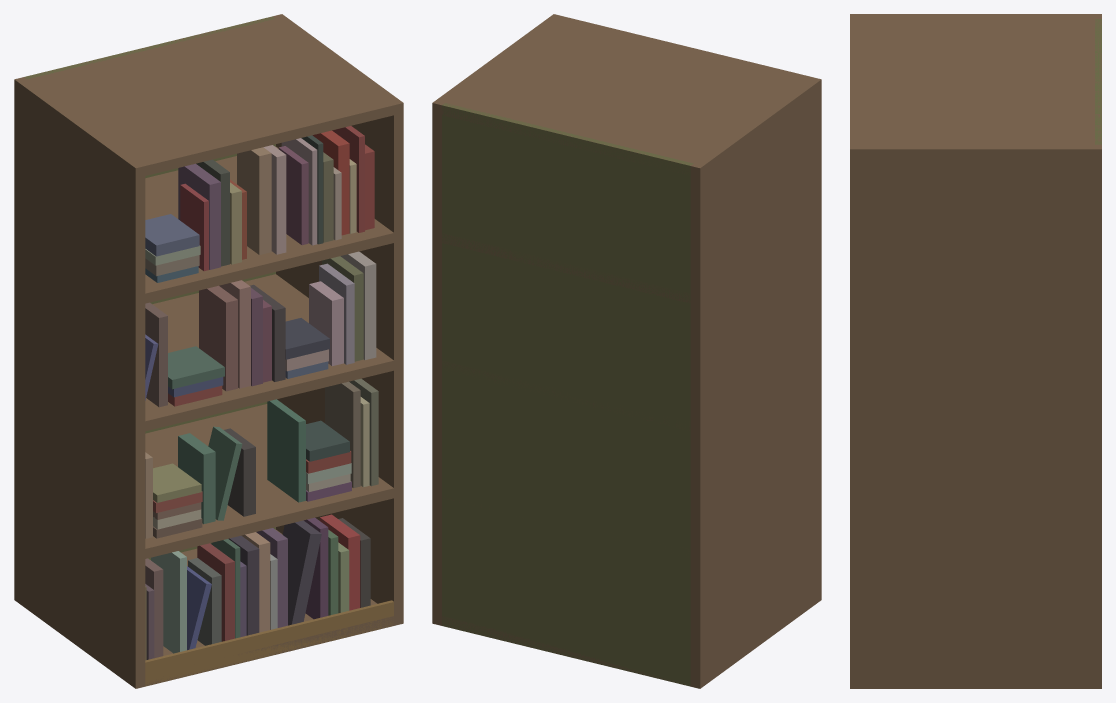
The model's file is estante-3.glb.
The picture shows the model from 3 angles, left to right: view 1: azimuth 30°, elevation 25°; view 2: azimuth 150°, elevation 25°; view 3: azimuth 270°, elevation 25°; orthographic projection. The views are drawn at different scales.
Visible parts, largest first — view 1: estante; view 2: estante; view 3: estante.
Boxes of the visible parts, <box> form: estante: <box>14,14,403,688</box>; estante: <box>432,14,821,688</box>; estante: <box>850,14,1101,688</box>.
Size of the model in its own units: 1.4 by 2.6 by 1.1.
